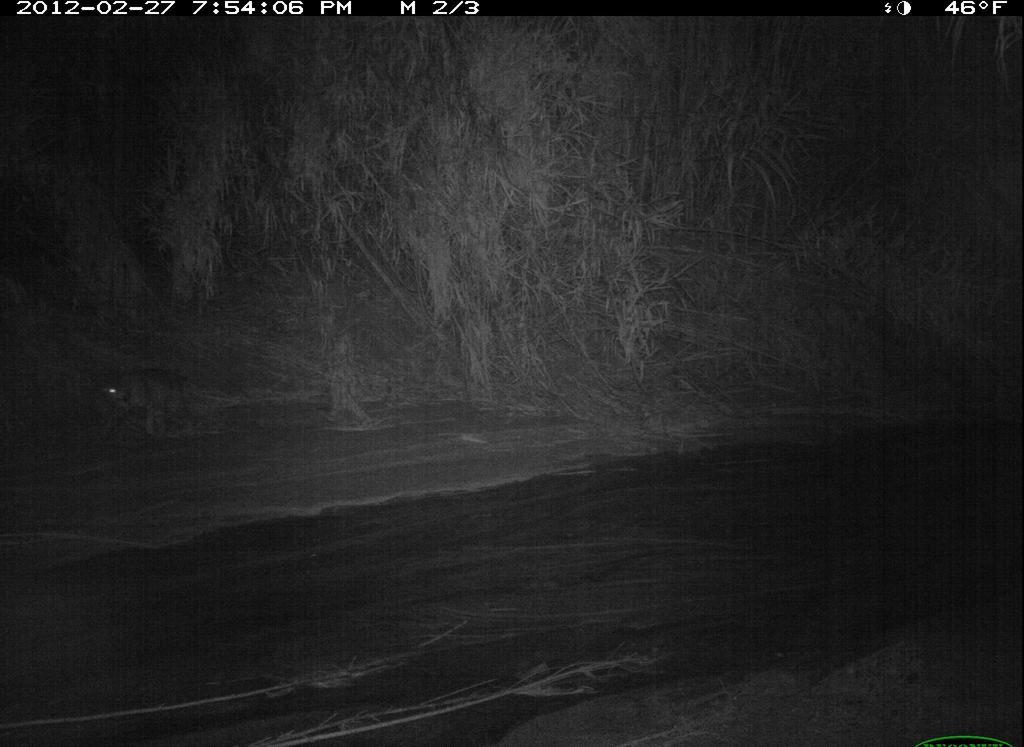bobcat: (93, 363, 228, 443)
